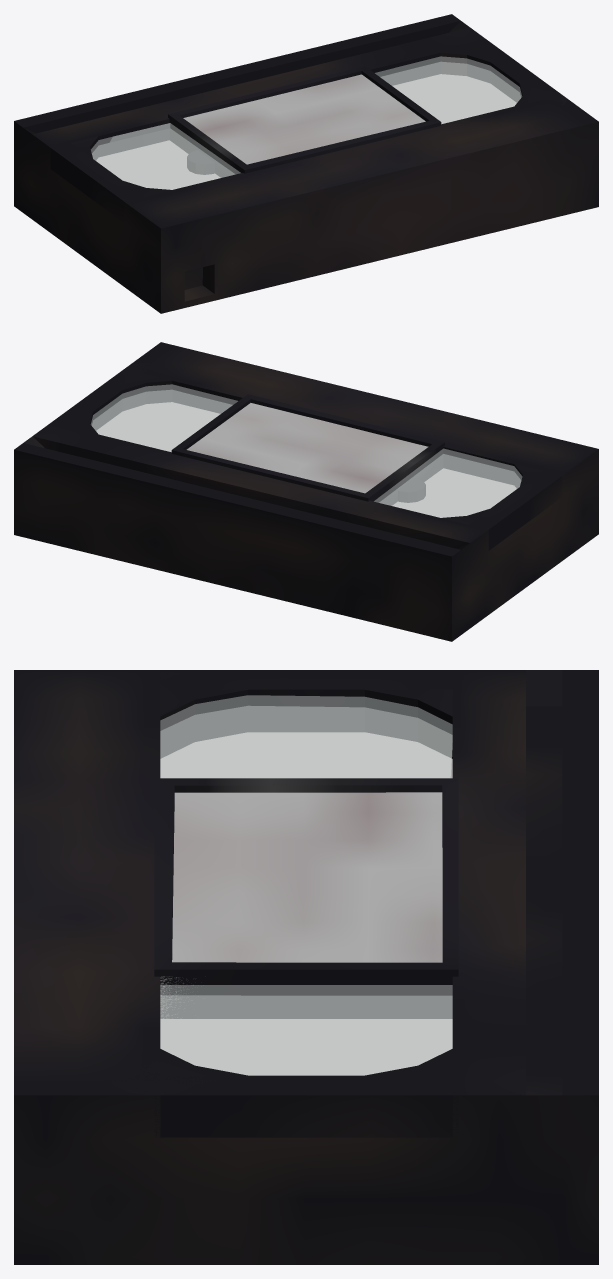
File: vhs.fbx
The picture shows the model from 3 angles, top to bottom: view 1: azimuth 30°, elevation 25°; view 2: azimuth 150°, elevation 25°; view 3: azimuth 270°, elevation 25°; orthographic projection. The views are drawn at different scales.
Visible parts, largest first — view 1: group168754191; view 2: group168754191; view 3: group168754191.
Boxes of the visible parts, x1=… form: group168754191: x1=14, y1=14, x2=598, y2=313; group168754191: x1=14, y1=342, x2=598, y2=641; group168754191: x1=14, y1=670, x2=598, y2=1264.
Size of the model in its own units: 27.11 by 5.25 by 15.76.
